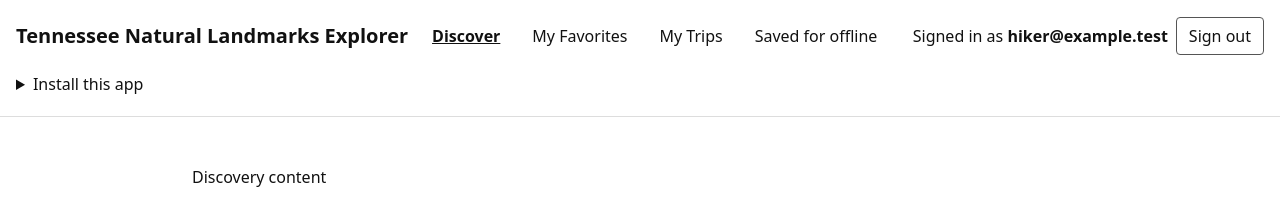
Test: AppLayout — My Trips navigation (M05-T06 Increment 2) › signed in: My Trips follows My Favorites and links to /trips
The image size is (1280, 205).
Click the link "My Trips".
click(691, 36)  # box top-left (660, 25), bottom-right (723, 47)
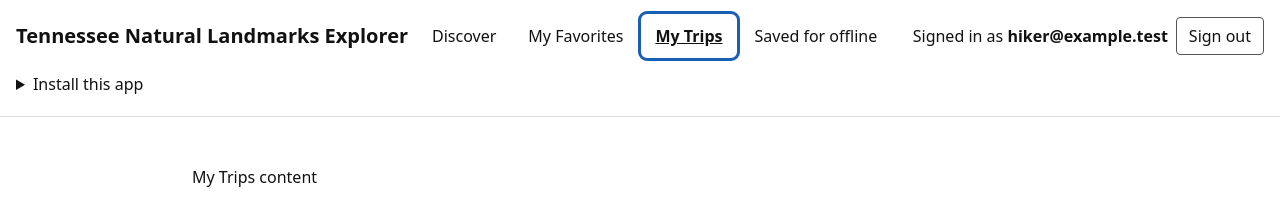
Result: the text "My Trips content" is shown at top-left (192, 166), bottom-right (317, 188)
